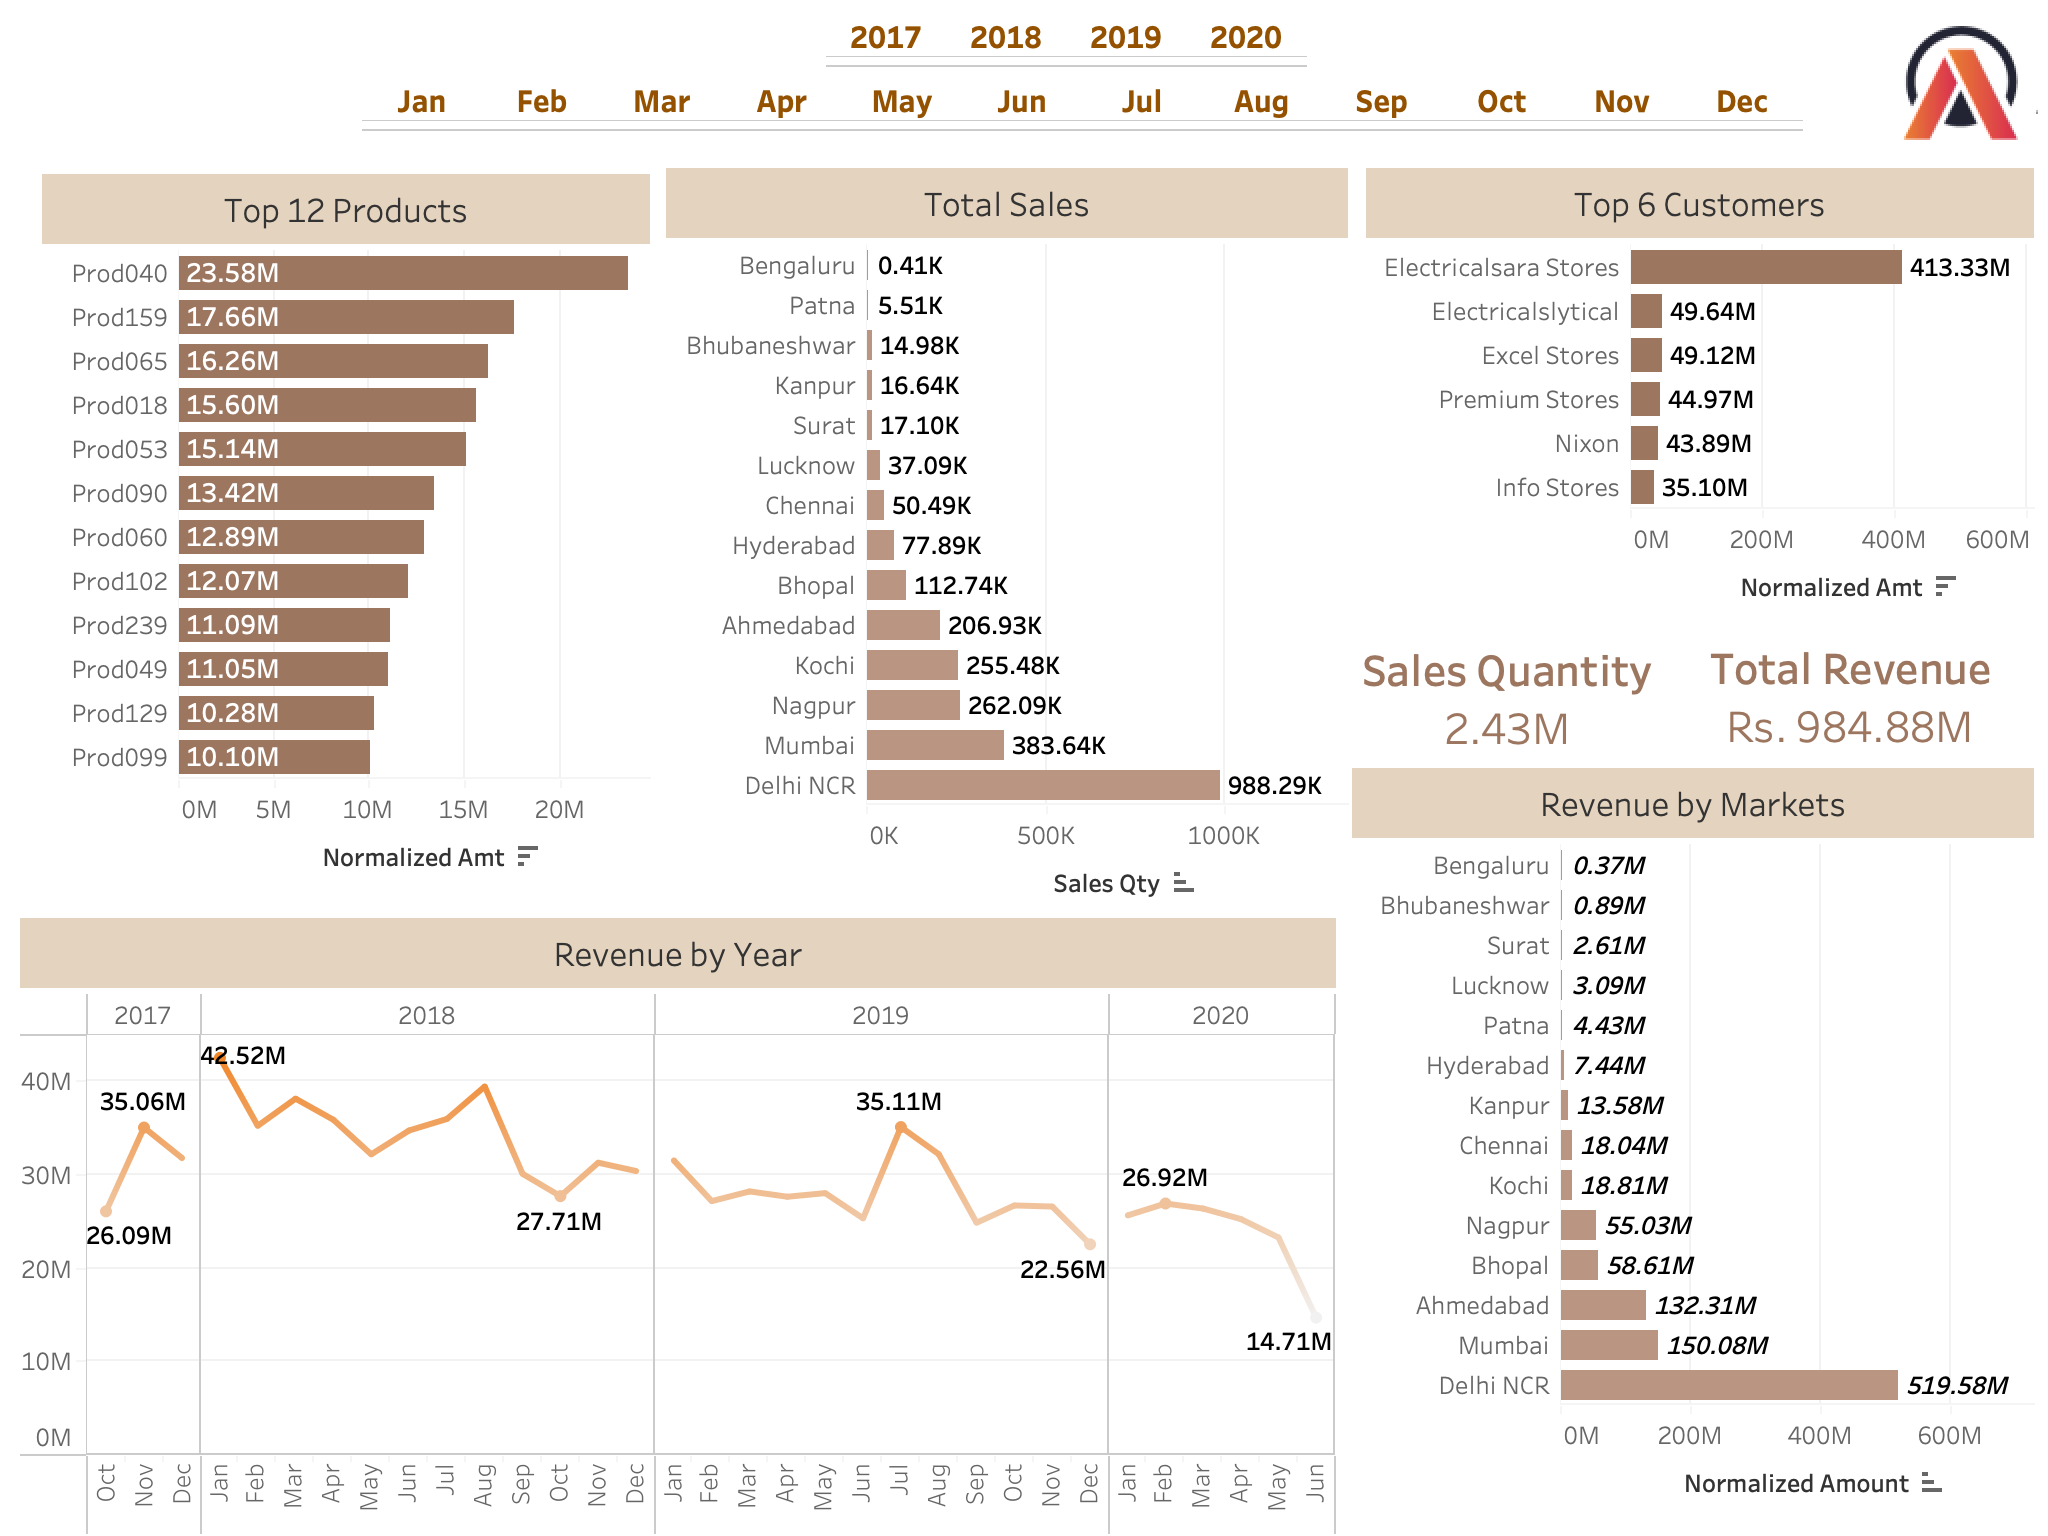

This screenshot's page, from the dashboard's own definition file:
{"tool":"tableau","page":{"name":"Dashboard 1 - Revenue Analysis","canvas":[1024,768],"ordinal":0},"visuals":[{"type":"image","box":[936,0,90,83]},{"type":"worksheet","title":"Year","mark":"Automatic","cols":["cy_date"],"box":[413,8,296,29]},{"type":"worksheet","title":"Month","mark":"Automatic","cols":["cy_date"],"box":[181,40,748,38]},{"type":"worksheet","title":"Sales Quantity by Markets","mark":"Automatic","rows":["markets_name"],"cols":["sales_qty"],"box":[333,84,341,385]},{"type":"worksheet","title":"Top 6 Customers","mark":"Automatic","rows":["custmer_name"],"cols":["Calculation_4434849403206725632"],"box":[683,84,334,237]},{"type":"worksheet","title":"Top 12 Products","mark":"Automatic","rows":["product_code (products)"],"cols":["Calculation_4434849403206725632"],"box":[21,87,304,368]},{"type":"worksheet","title":"Quantity","mark":"Automatic","box":[674,321,181,61]},{"type":"worksheet","title":"Revenue by Markets","mark":"Automatic","rows":["markets_name"],"cols":["Calculation_4434849403206725632"],"box":[676,384,341,384]},{"type":"worksheet","title":"Revenue by Year","mark":"Automatic","rows":["Calculation_4434849403206725632"],"cols":["cy_date","cy_date"],"box":[10,459,658,309]}]}

Visuals, with their boxes in screenshot pixels (x1, y1, x2, y2), scaled from the page's 1024x768 canvas onto the 2048x1536 screenshot:
image: crop(1872, 0, 2047, 166)
"Year" worksheet: crop(826, 16, 1418, 74)
"Month" worksheet: crop(362, 80, 1858, 156)
"Sales Quantity by Markets" worksheet: crop(666, 168, 1348, 938)
"Top 6 Customers" worksheet: crop(1366, 168, 2034, 642)
"Top 12 Products" worksheet: crop(42, 174, 650, 910)
"Quantity" worksheet: crop(1348, 642, 1710, 764)
"Revenue by Markets" worksheet: crop(1352, 768, 2034, 1535)
"Revenue by Year" worksheet: crop(20, 918, 1336, 1535)
